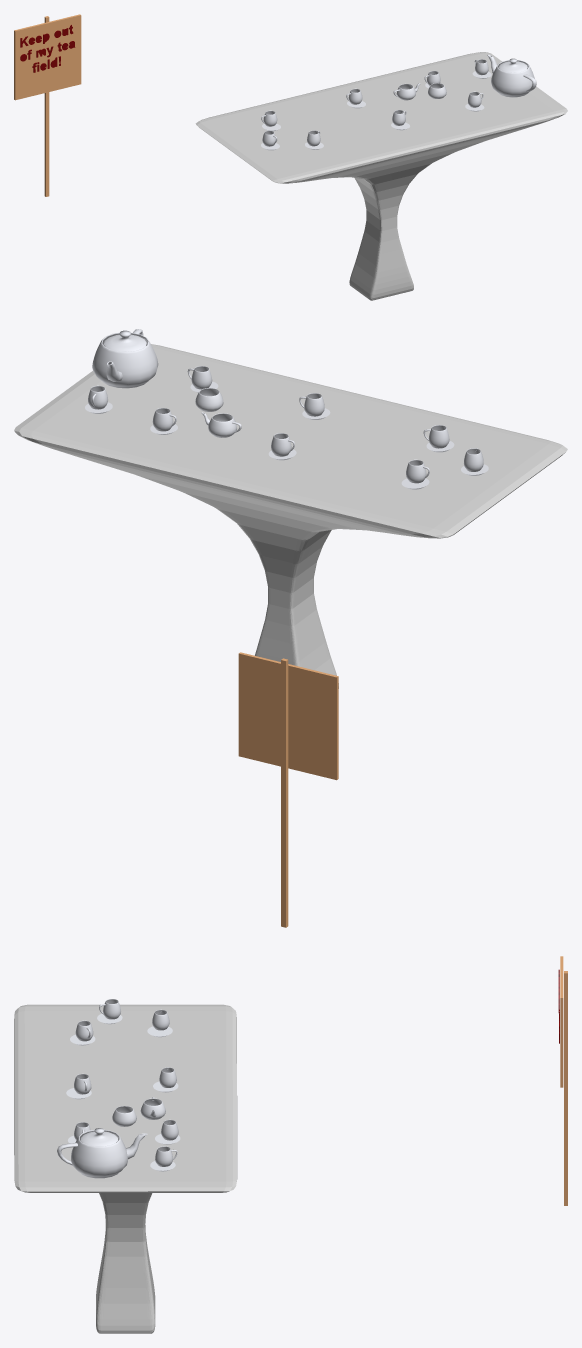
Rendered from tableSet.FBX.
3 views of the same model, one above another, from view 1: azimuth 30°, elevation 25°; view 2: azimuth 150°, elevation 25°; view 3: azimuth 270°, elevation 25° (orthographic). The views are drawn at different scales.
Parts seen in each view (by area): view 1: table, sign, Teapot01; view 2: table, sign, Teapot01; view 3: table, Teapot01, sign.
Boxes of the visible parts, bbox=[...] form: table: bbox=[195, 52, 567, 300]; sign: bbox=[14, 14, 81, 196]; Teapot01: bbox=[487, 54, 536, 97]; table: bbox=[14, 344, 567, 688]; sign: bbox=[238, 652, 338, 927]; Teapot01: bbox=[92, 329, 158, 388]; table: bbox=[14, 1004, 237, 1333]; Teapot01: bbox=[57, 1128, 147, 1178]; sign: bbox=[558, 956, 567, 1205].
Size of the model in its own units: 19.46 by 11.08 by 20.74.
